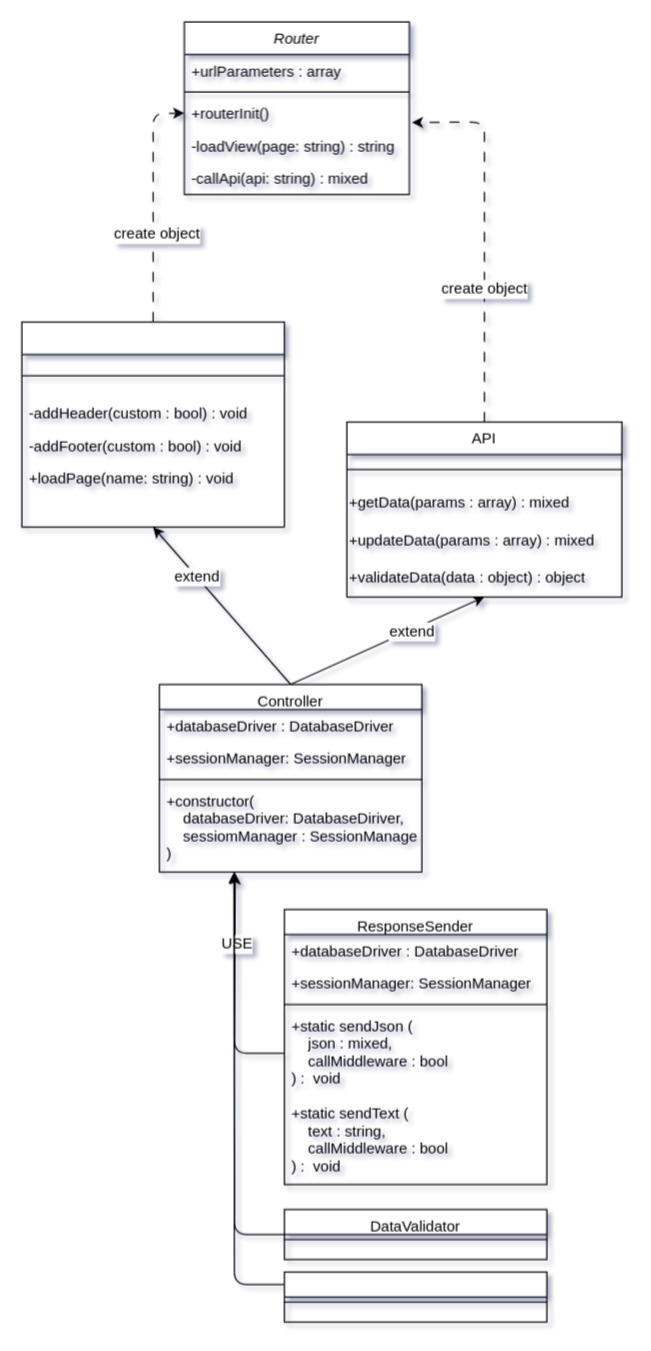
The diagram is 651 pixels wide and 1351 high, and some of its shapes have lost their labels. Each missing label, with the box of its shape:
Models: (283, 1271, 547, 1322)
View: (21, 321, 284, 527)
